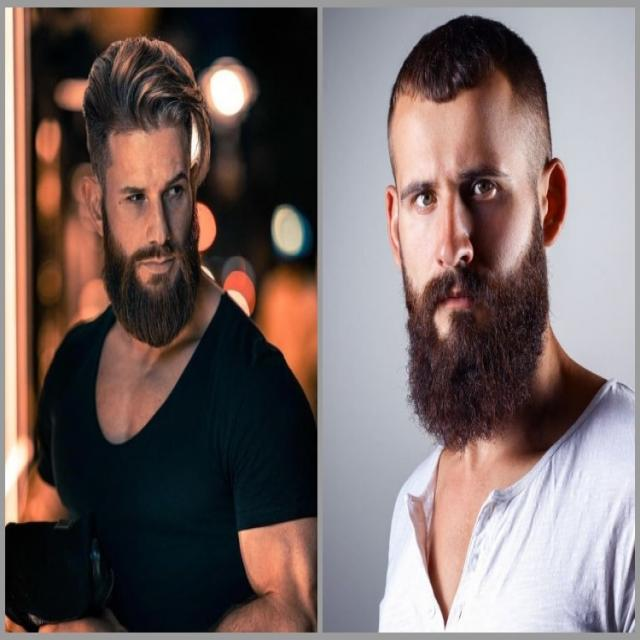beard: (401, 203, 548, 446), (101, 192, 205, 364)
hair: (384, 11, 548, 151), (80, 40, 212, 175)
